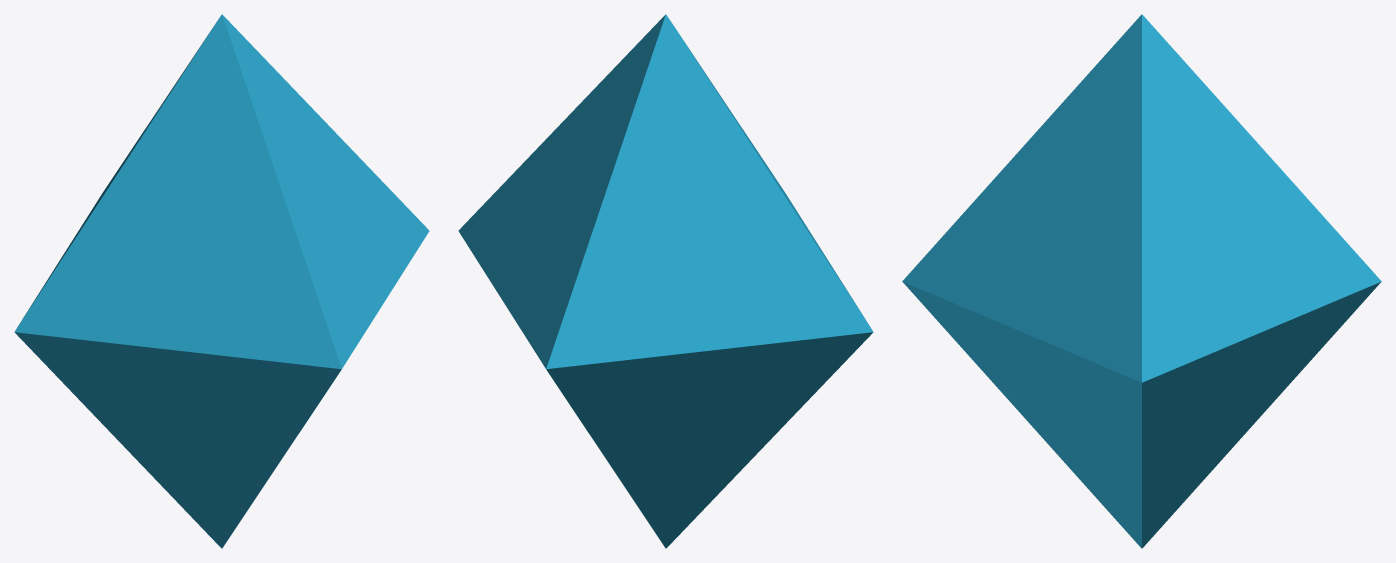
The model's file is tier-t3.glb.
3 renders of one model, left to right at view 1: azimuth 30°, elevation 25°; view 2: azimuth 150°, elevation 25°; view 3: azimuth 270°, elevation 25°, orthographic.
Visible parts, largest first — view 1: gem-t3-void-forged-top, gem-t3-void-forged-bottom; view 2: gem-t3-void-forged-top, gem-t3-void-forged-bottom; view 3: gem-t3-void-forged-top, gem-t3-void-forged-bottom.
Part boxes in pixels (x1,y1,x2,y2): gem-t3-void-forged-top: (14,14,429,369); gem-t3-void-forged-bottom: (15,332,341,548); gem-t3-void-forged-top: (458,14,873,369); gem-t3-void-forged-bottom: (546,332,872,548); gem-t3-void-forged-top: (902,14,1381,382); gem-t3-void-forged-bottom: (902,281,1381,548).
Bounding box in the file's own units: 0.26 × 0.32 × 0.26.
